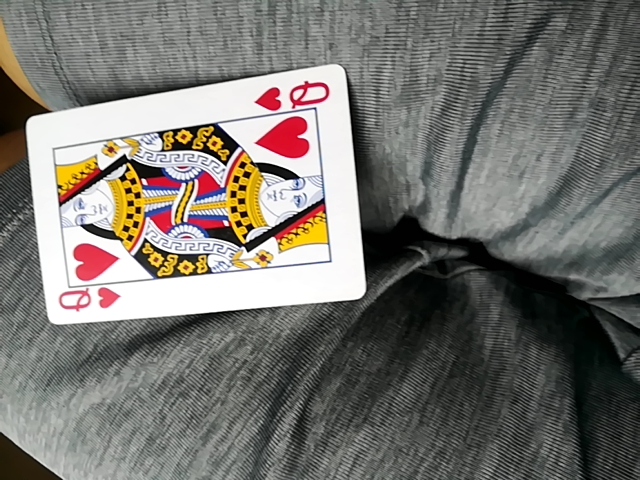hx q: (29, 63, 365, 328)
